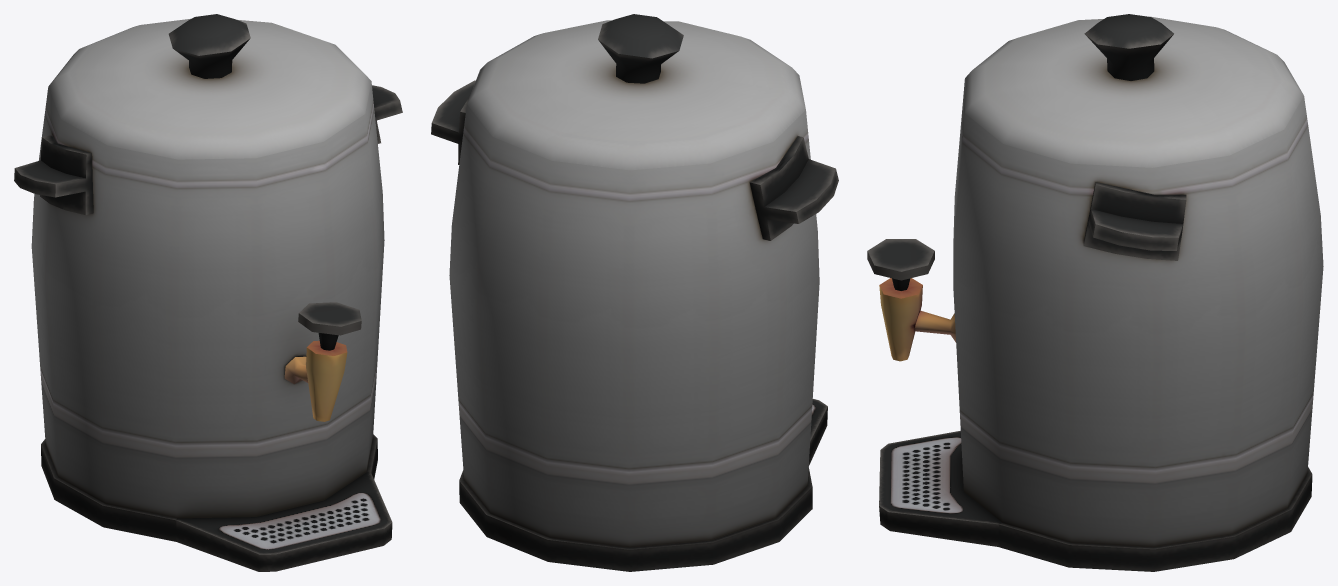
Rendered from CafeWaterBoiler01.FBX.
3 views of the same model, side by side, from view 1: azimuth 30°, elevation 25°; view 2: azimuth 150°, elevation 25°; view 3: azimuth 270°, elevation 25° (orthographic). The views are drawn at different scales.
Visible parts, largest first — view 1: CafeWaterBoiler01; view 2: CafeWaterBoiler01; view 3: CafeWaterBoiler01.
Boxes of the visible parts, box(x1,y1,x2,y2) form: CafeWaterBoiler01: box(14, 14, 402, 571); CafeWaterBoiler01: box(431, 14, 838, 571); CafeWaterBoiler01: box(867, 14, 1323, 571).
Size of what is drawn, in the model's own units: 0.6446 by 0.7589 by 0.6621.
